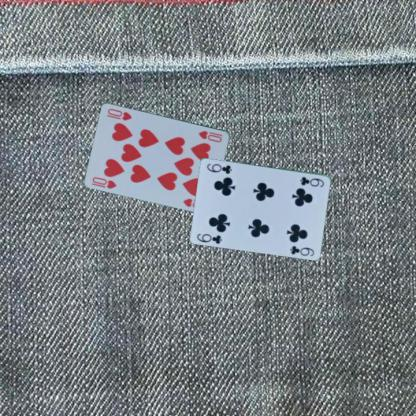10h: (90, 174, 118, 189), (196, 128, 223, 143)
6c: (194, 231, 224, 245), (298, 174, 325, 188)
